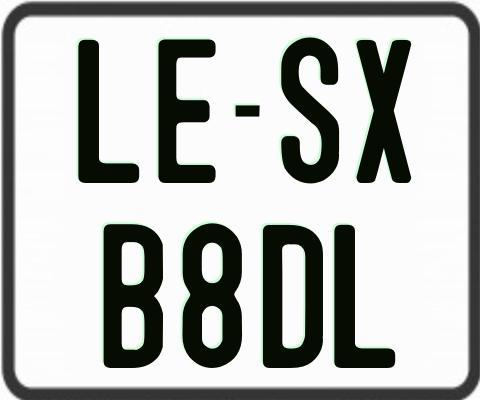8: (180, 223, 242, 370)
B: (103, 223, 163, 369)
D: (263, 224, 328, 371)
E: (157, 37, 221, 182)
L: (333, 222, 400, 371), (77, 39, 140, 186)
S: (279, 35, 341, 183)
X: (355, 37, 414, 183)
